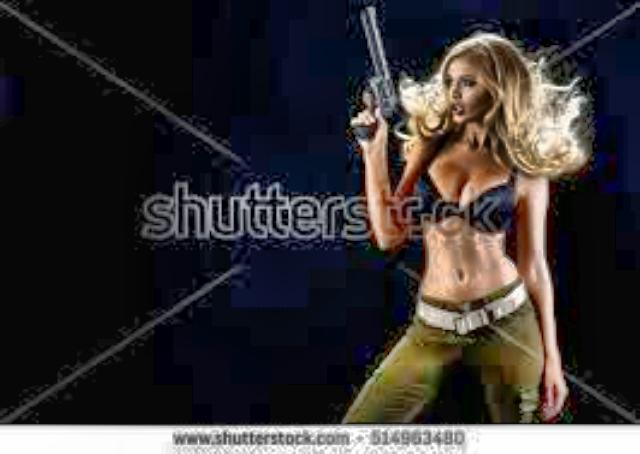pistol: (337, 2, 397, 140)
